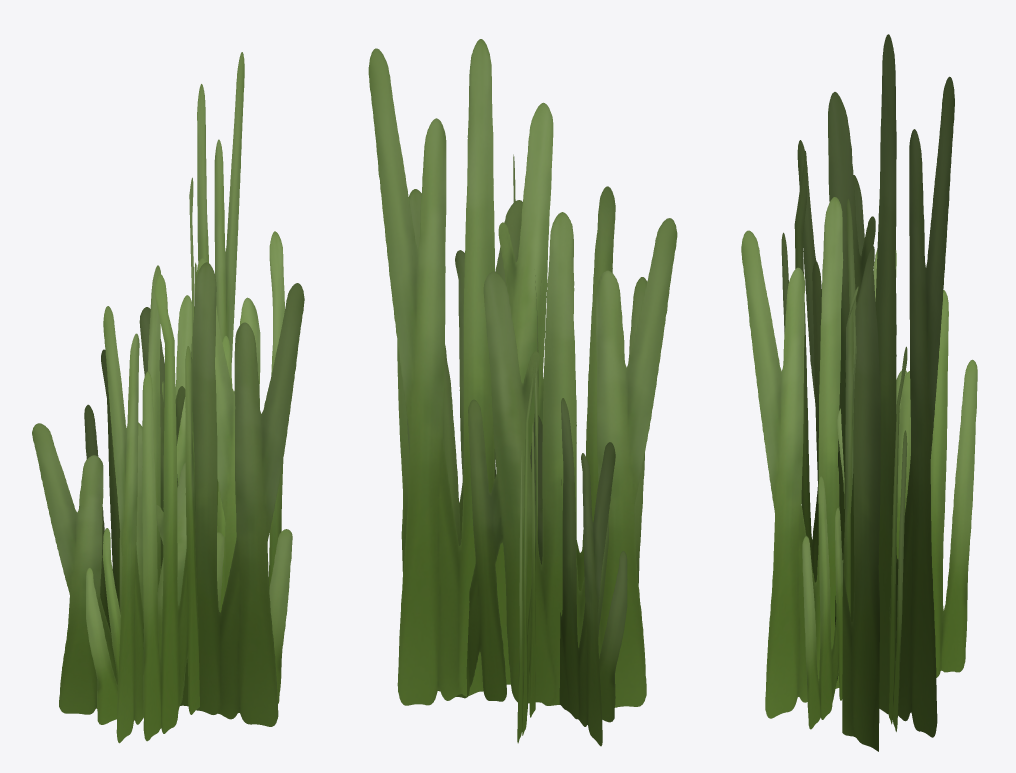
The model's file is grass1.fbx.
3 renders of one model, left to right at view 1: azimuth 30°, elevation 25°; view 2: azimuth 150°, elevation 25°; view 3: azimuth 270°, elevation 25°, orthographic. The views are drawn at different scales.
Visible parts, largest first — view 1: grass1; view 2: grass1; view 3: grass1.
Part boxes in pixels (left/top/right/bottom): grass1: left=32, top=52, right=304, bottom=743; grass1: left=368, top=39, right=677, bottom=746; grass1: left=741, top=34, right=977, bottom=751.
Bounding box in the file's own units: 34.43 × 85.87 × 30.23.
